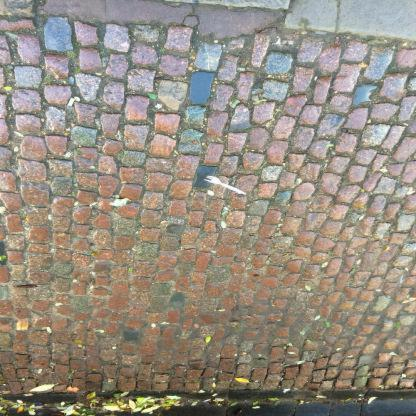Other litter: (204, 176, 247, 195)
